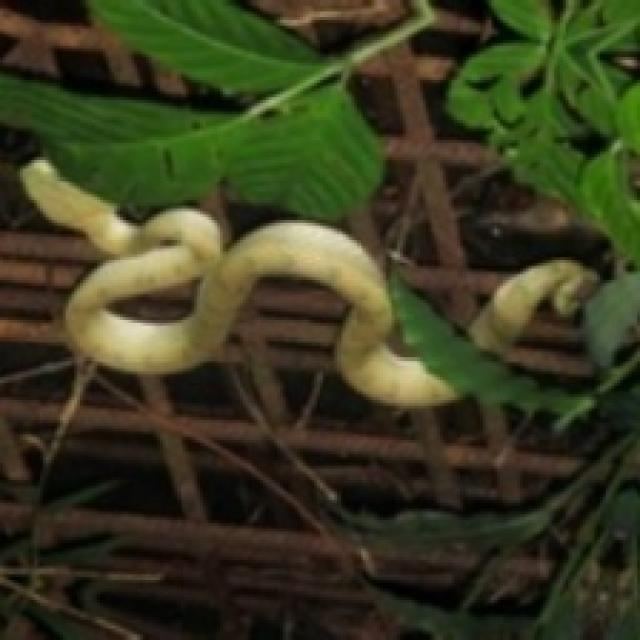north ph temple pitviper: (20, 157, 454, 406), (469, 260, 591, 349)
